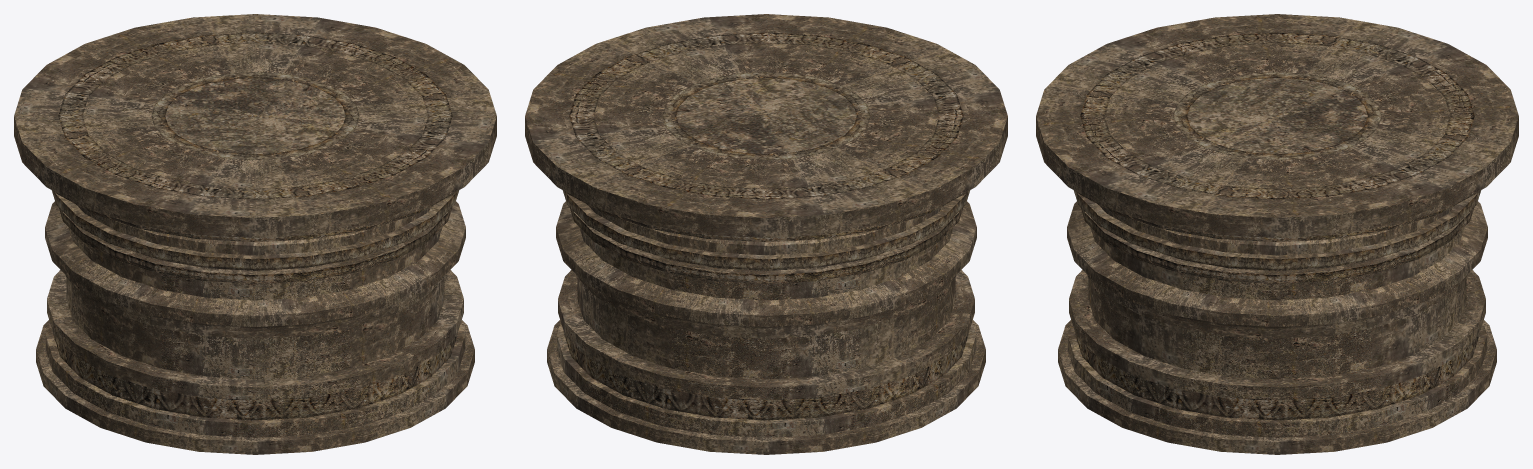
Rendered from materials_5_pedestal_0.fbx.
The picture shows the model from 3 angles, left to right: view 1: azimuth 30°, elevation 25°; view 2: azimuth 150°, elevation 25°; view 3: azimuth 270°, elevation 25°; orthographic projection.
Parts seen in each view (by area): view 1: materials_5_pedestal_0; view 2: materials_5_pedestal_0; view 3: materials_5_pedestal_0.
Part boxes in pixels (x1,y1,x2,y2): materials_5_pedestal_0: [14, 14, 496, 454]; materials_5_pedestal_0: [525, 14, 1007, 454]; materials_5_pedestal_0: [1036, 14, 1518, 454].
Size of the model in its own units: 91.64 by 51.54 by 91.64.
